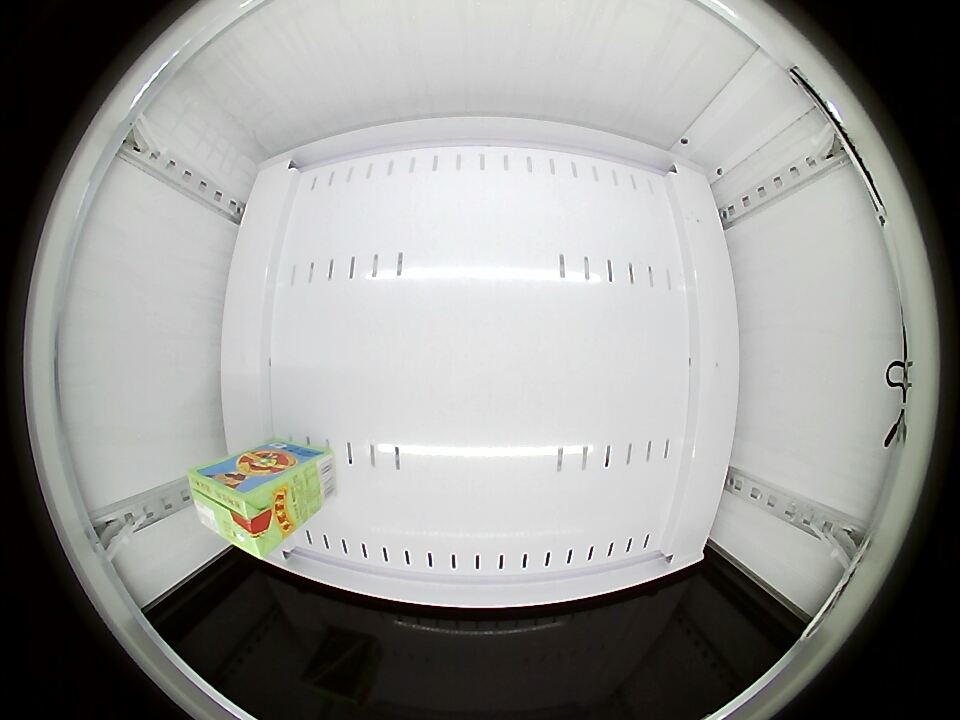wanglaoji: (188, 461, 288, 559)
